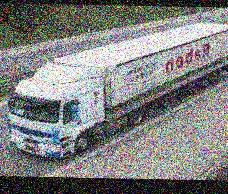truck: (4, 19, 228, 163)
